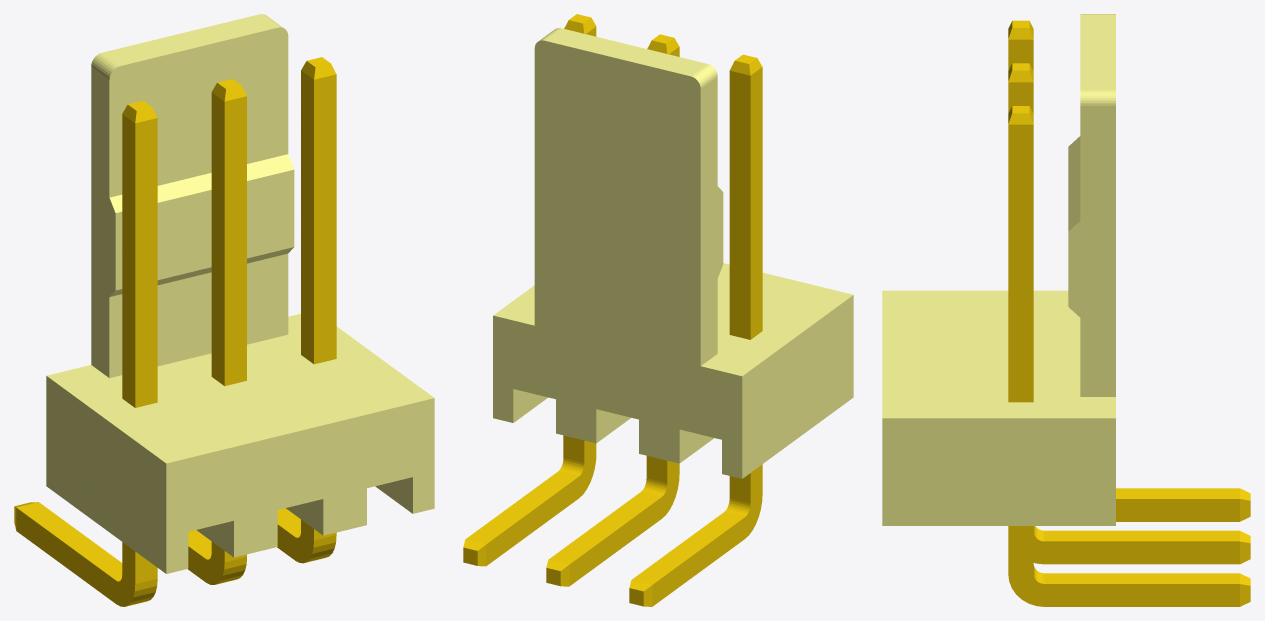
File: DS1070-3MR (WF-3RA CONNFLY).obj
3 renders of one model, left to right at view 1: azimuth 30°, elevation 25°; view 2: azimuth 150°, elevation 25°; view 3: azimuth 270°, elevation 25°, orthographic. The views are drawn at different scales.
Visible parts, largest first — view 1: DS1070-3MR_(WF-3RA_CONNFLY); view 2: DS1070-3MR_(WF-3RA_CONNFLY); view 3: DS1070-3MR_(WF-3RA_CONNFLY).
Boxes of the visible parts, x1,y1,x2,y2 form: DS1070-3MR_(WF-3RA_CONNFLY): (14,14,434,606); DS1070-3MR_(WF-3RA_CONNFLY): (463,14,853,606); DS1070-3MR_(WF-3RA_CONNFLY): (882,14,1250,606).
Bounding box in the file's own units: 0.0115 × 0.0214 × 0.0141.
